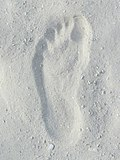human_footprint: (32, 15, 91, 145)
